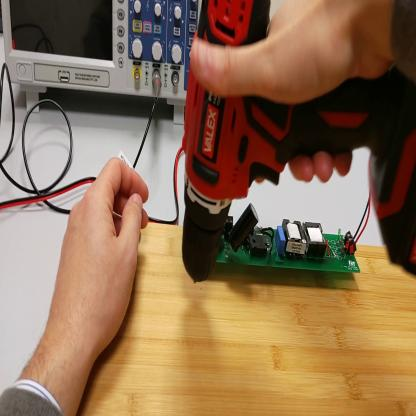electric screwdriver: (180, 2, 416, 284)
hand: (190, 1, 406, 190), (51, 160, 148, 353)
high voltage board: (209, 194, 376, 274)
oscilloscope: (1, 2, 204, 128)
working area: (81, 222, 416, 415)
